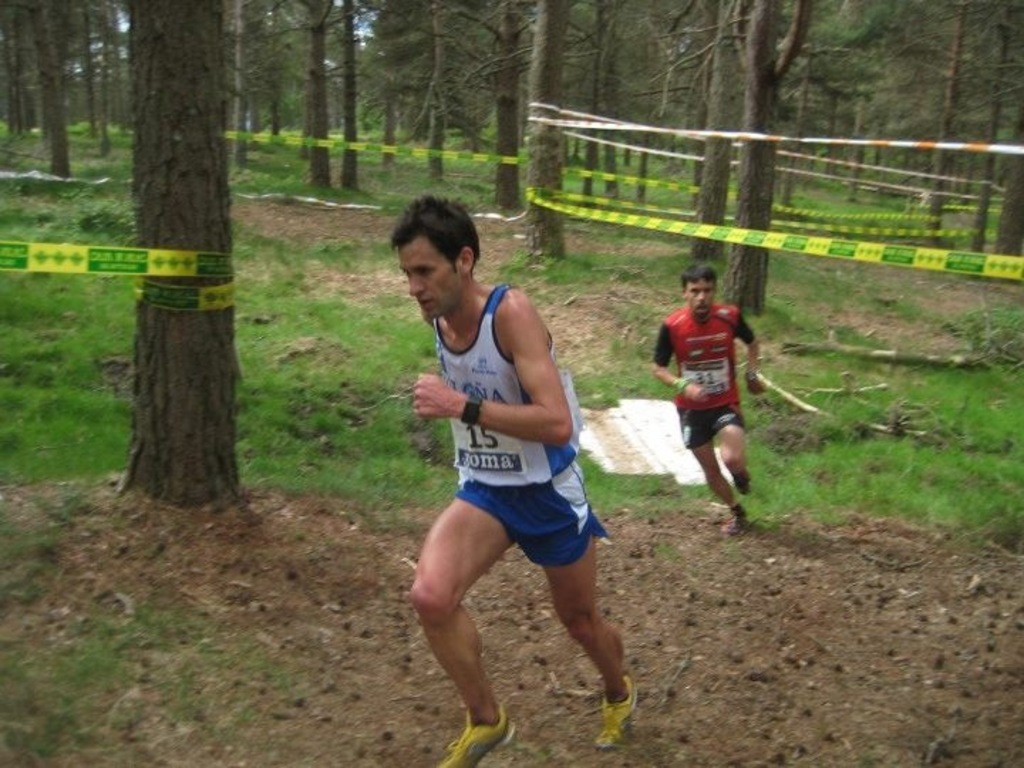Tree: (0, 0, 1022, 322), (108, 0, 248, 507)
